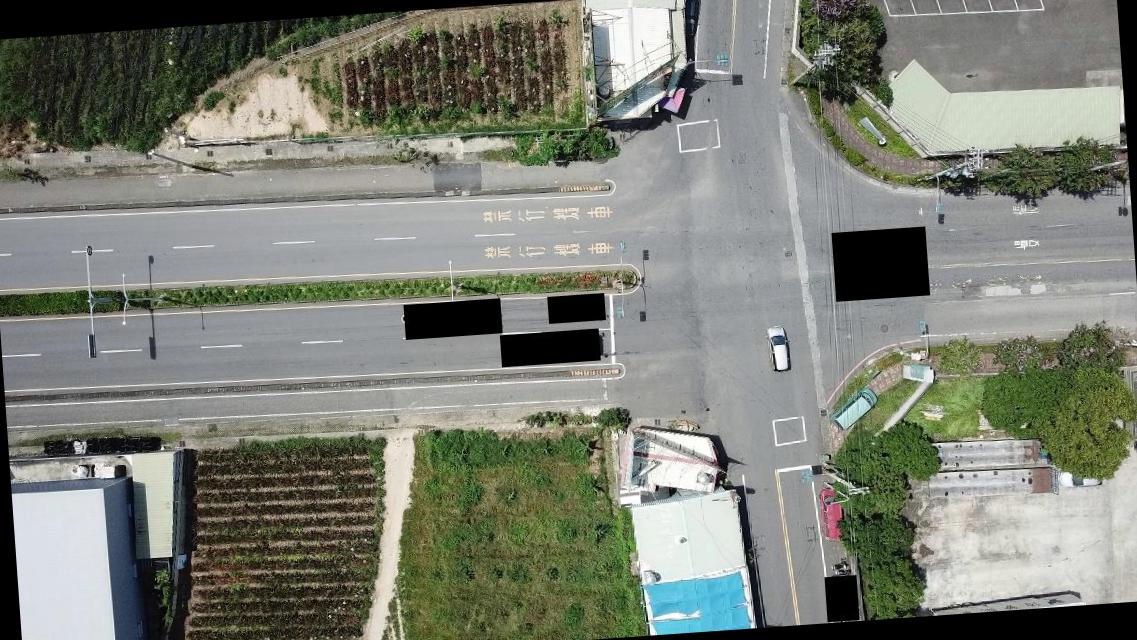vehicle: (828, 388, 882, 433), (812, 488, 850, 540), (1052, 462, 1106, 490), (762, 324, 789, 376), (679, 0, 703, 40)
